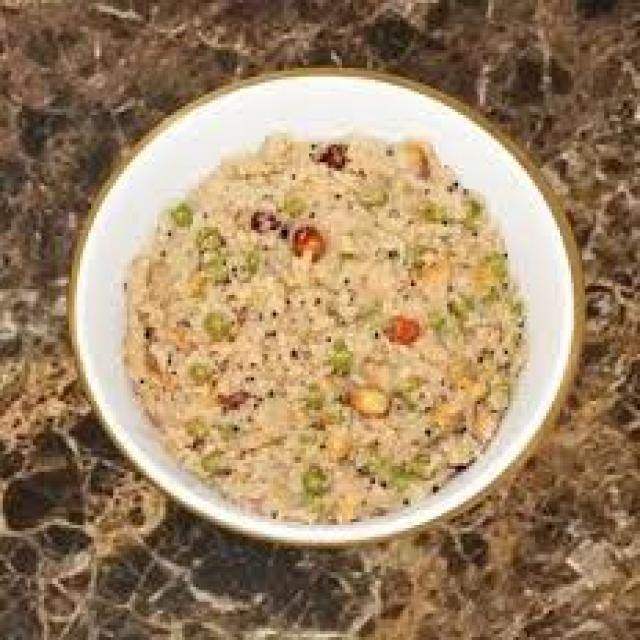ROTI: (124, 127, 527, 519)
